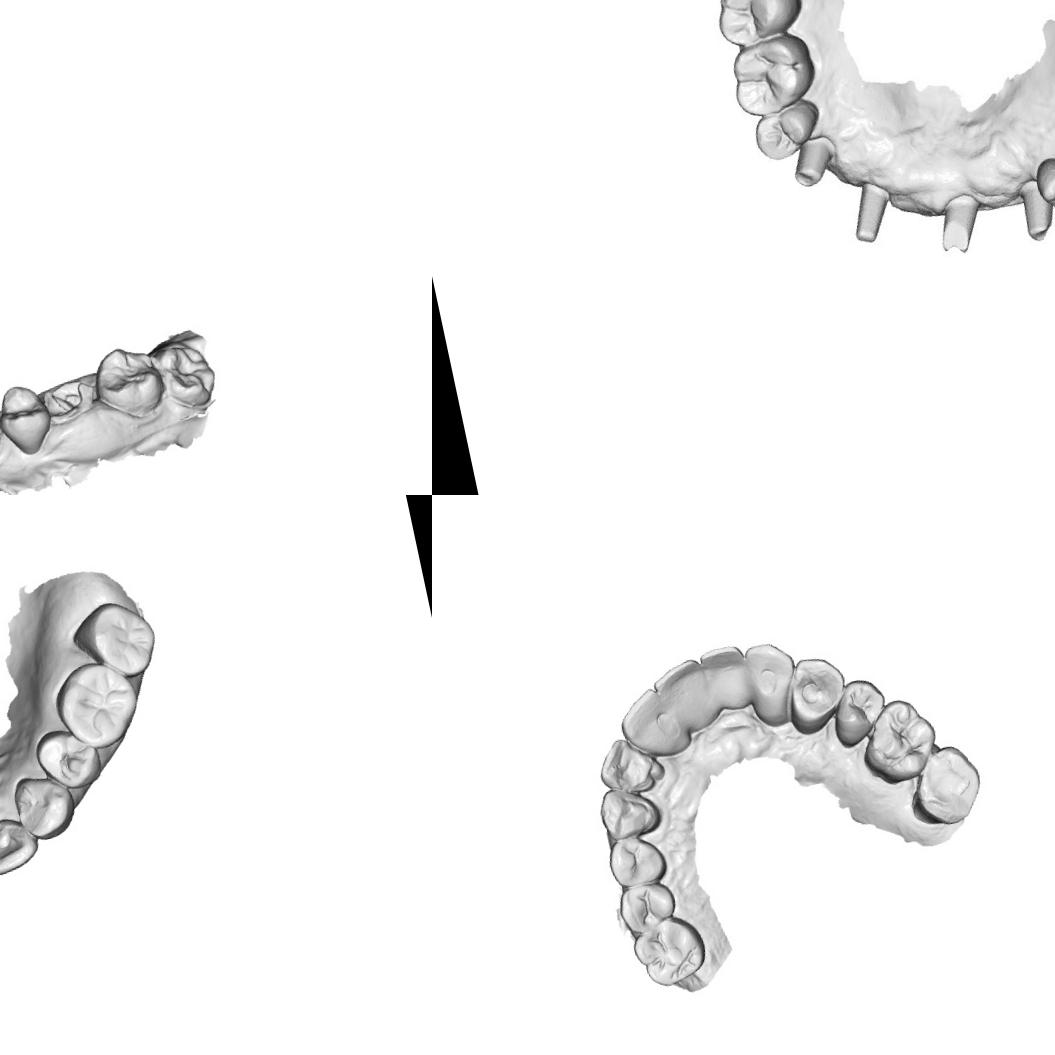abutment: (928, 182, 990, 262), (840, 173, 904, 250), (785, 130, 843, 190), (1010, 174, 1055, 246)
canine: (8, 767, 85, 848), (740, 638, 806, 730), (595, 780, 664, 843)
incisor: (614, 682, 694, 767), (593, 731, 669, 801), (648, 657, 714, 736), (698, 642, 754, 714), (0, 811, 43, 878)
molar: (46, 652, 148, 758), (719, 28, 822, 123), (66, 592, 165, 689), (854, 693, 944, 789), (86, 336, 174, 428), (901, 740, 988, 832), (627, 910, 712, 992), (150, 330, 224, 414), (704, 0, 804, 52)
premolar: (778, 650, 855, 738), (747, 96, 829, 165), (31, 722, 106, 797), (826, 674, 894, 750), (0, 379, 58, 461), (604, 831, 670, 891), (614, 878, 680, 936), (1029, 149, 1055, 227)
